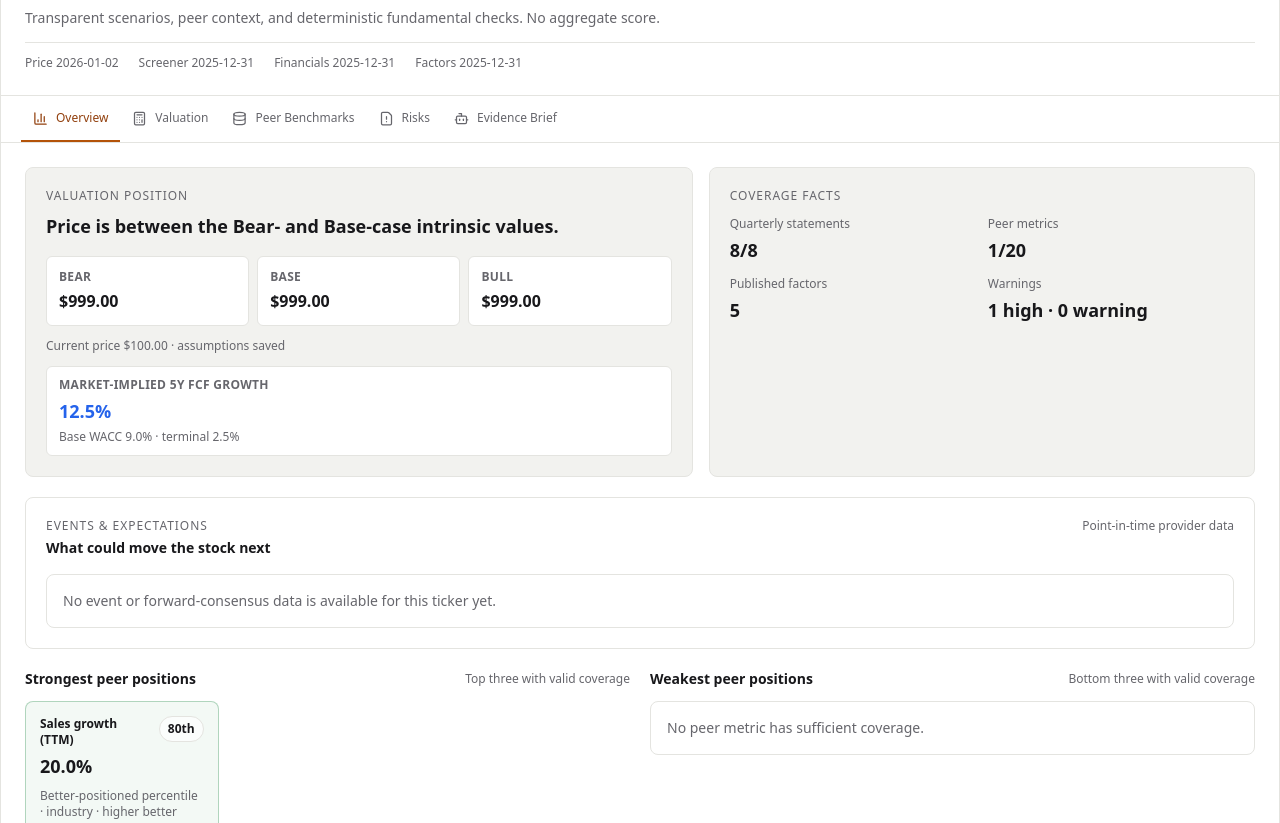
Scenario: DecisionCockpit › clears a saved valuation while default recalculation is pending
Click the button "Valuation": (170, 119) [120,96,220,142]
(page scrolled)
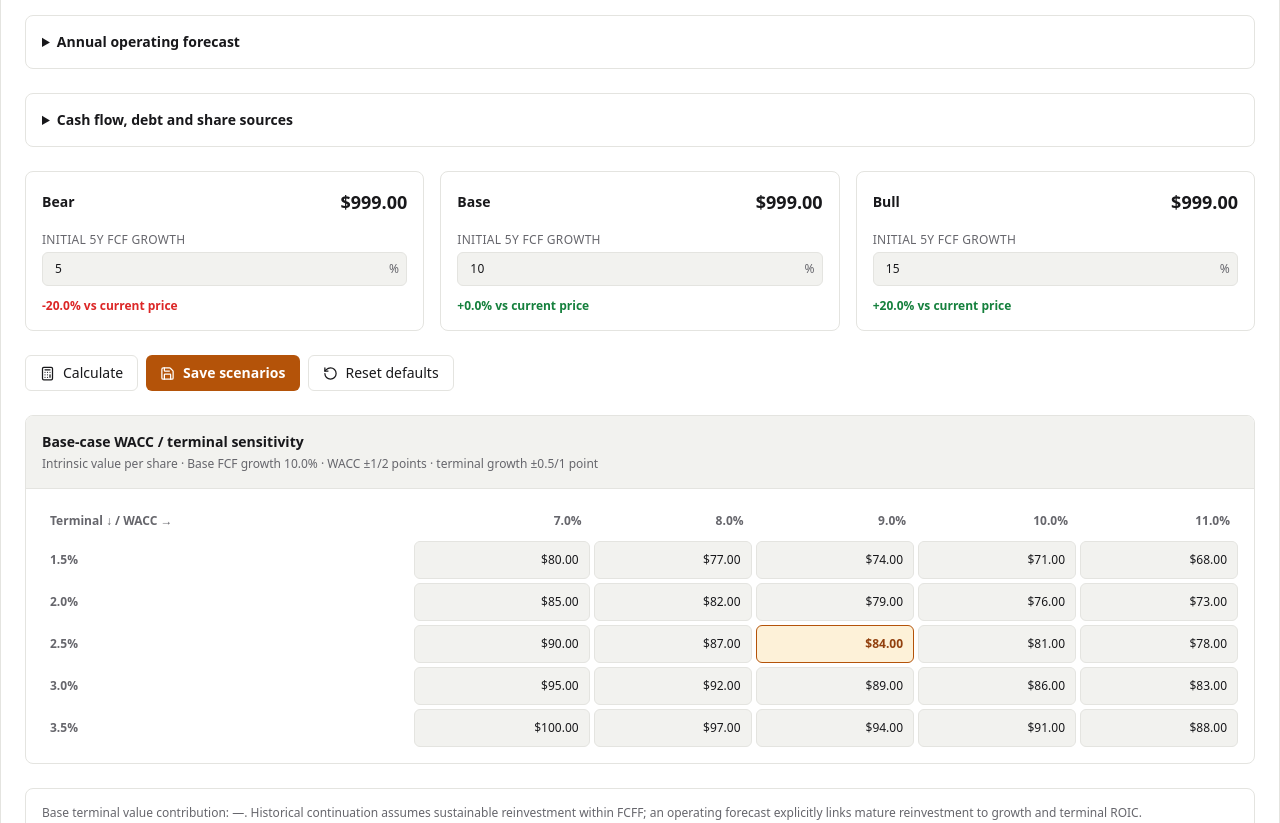
Expected: the text "$999.00" is shown 3 times, [340,188,407,216]; [756,188,823,216]; [1171,188,1238,216]
Click the button "Reset defaults": (381, 373) [308,355,454,391]
(page scrolled)
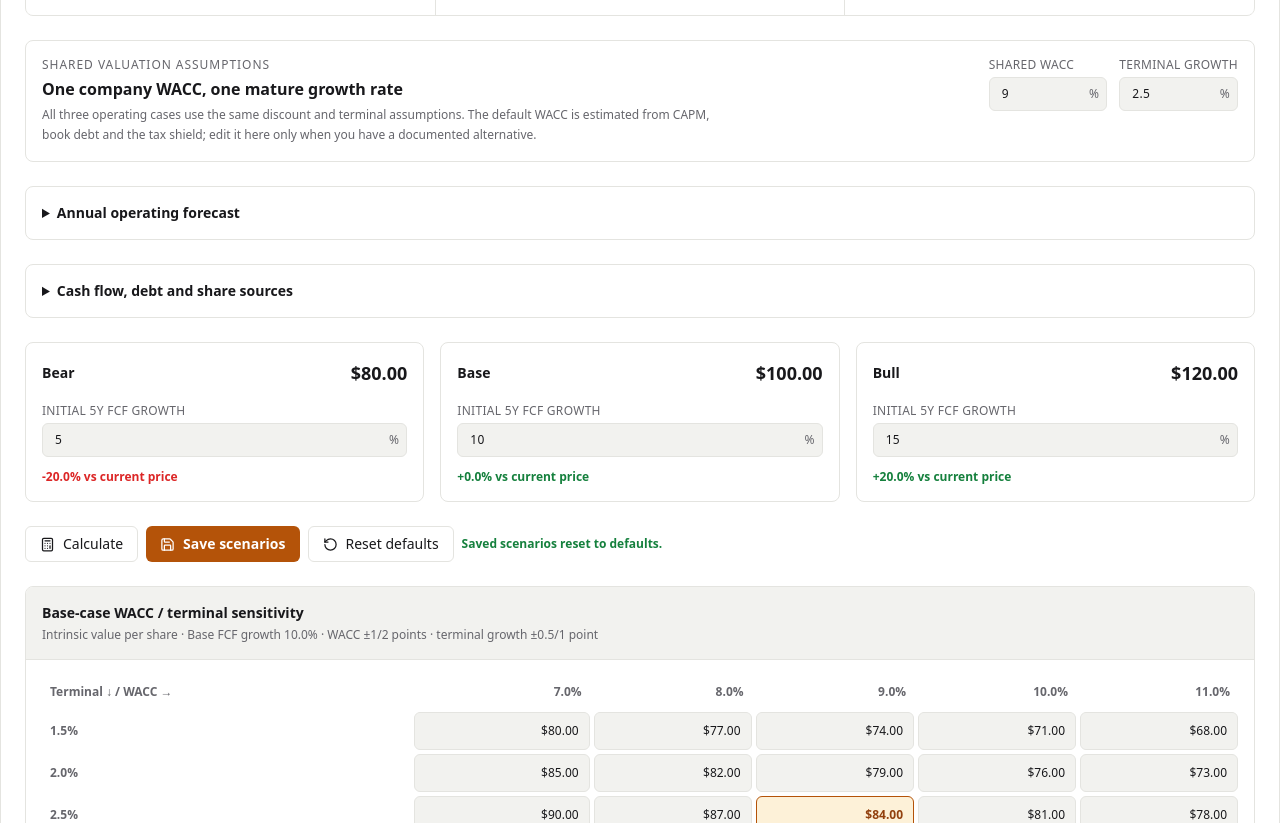
Expected: the text "$999.00" is gone
Expected: the text "$80.00" is shown, [351,359,407,387]
